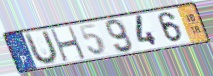4: (135, 13, 160, 50)
5: (77, 23, 108, 57)
6: (158, 12, 184, 45)
9: (103, 18, 136, 54)
H: (48, 25, 88, 64)
U: (23, 29, 59, 67)
